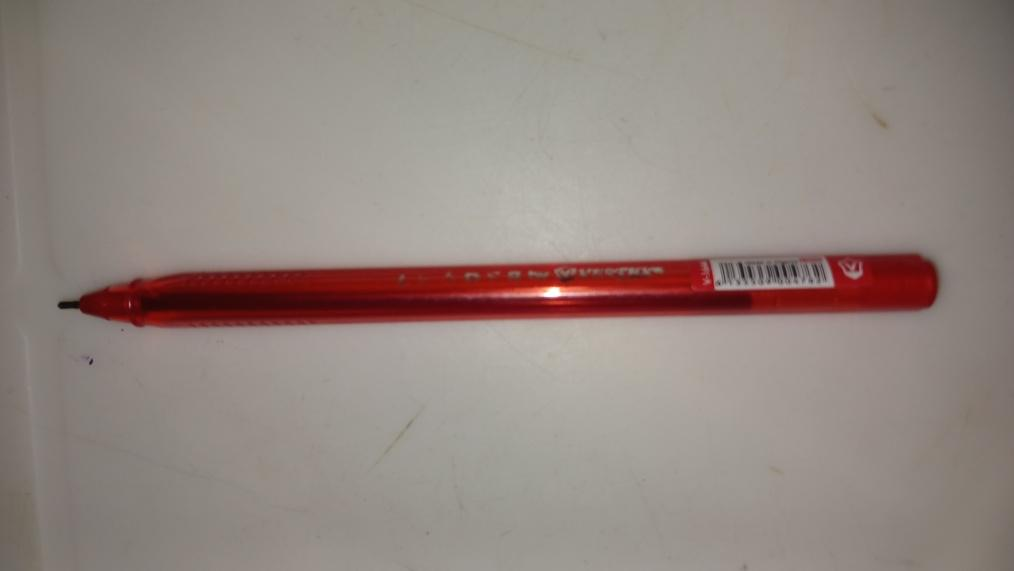pen: (49, 251, 950, 325)
